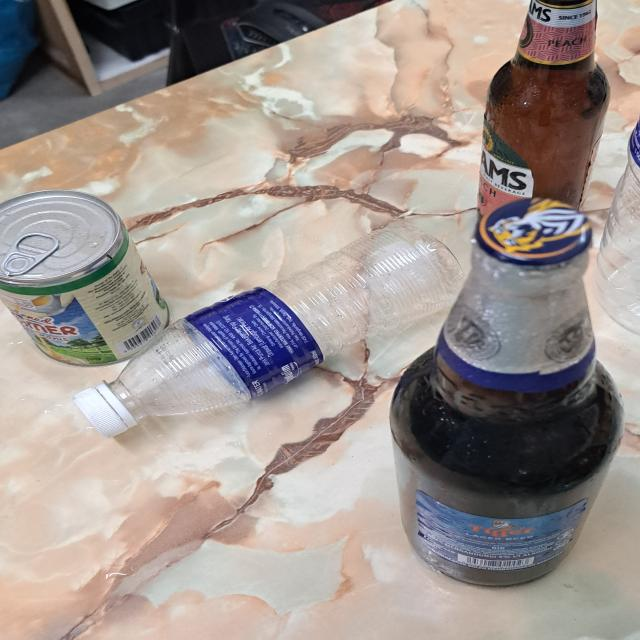can: (0, 188, 172, 367)
glass bottle: (388, 199, 624, 592), (476, 0, 611, 214)
plastic bottle: (112, 220, 463, 421)
plastic bottle cap: (74, 387, 133, 438)
pop tab: (0, 231, 60, 279)
